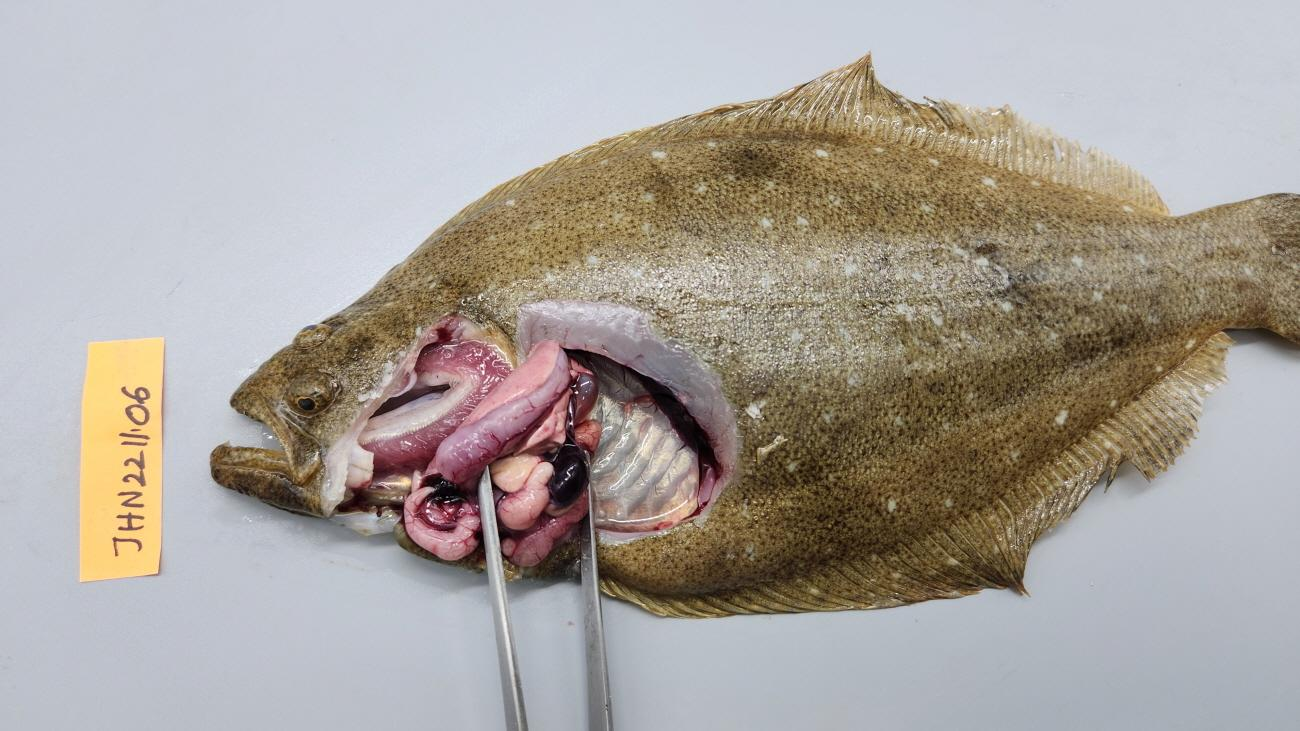POINN: (491, 453, 588, 566)
POSPN: (545, 453, 589, 507)
